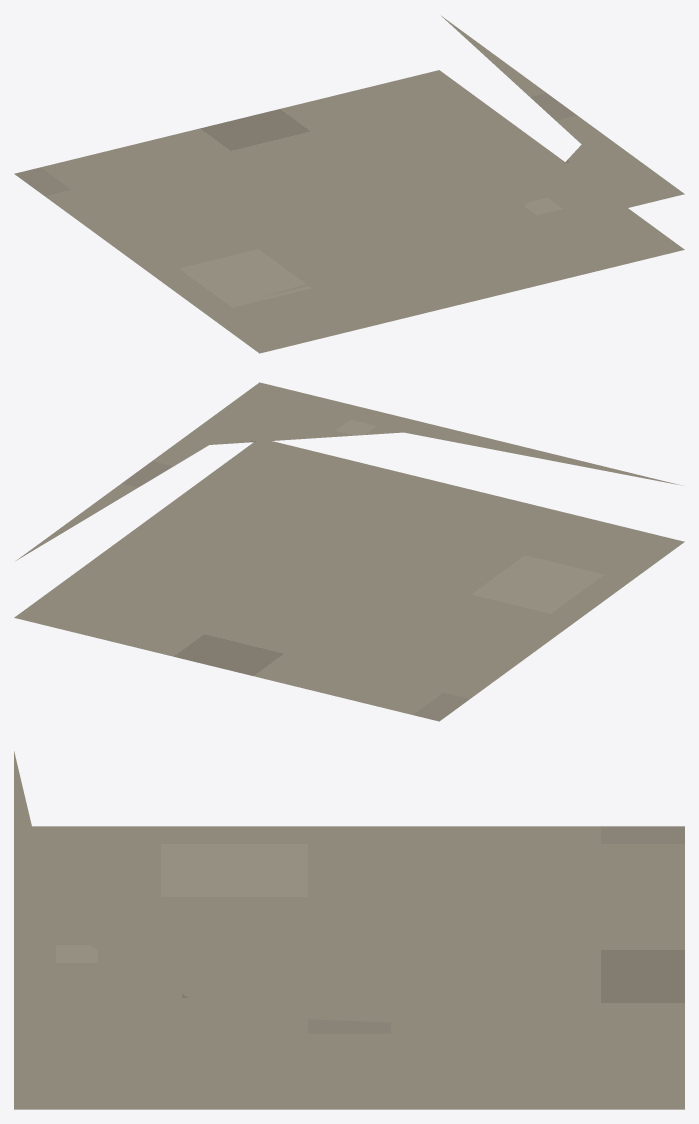
The picture shows the model from 3 angles, top to bottom: view 1: azimuth 30°, elevation 25°; view 2: azimuth 150°, elevation 25°; view 3: azimuth 270°, elevation 25°; orthographic projection. The views are drawn at different scales.
Size of the model in its own units: 1 by 0.125 by 1.
Materials: 1 (1 with a texture image).
